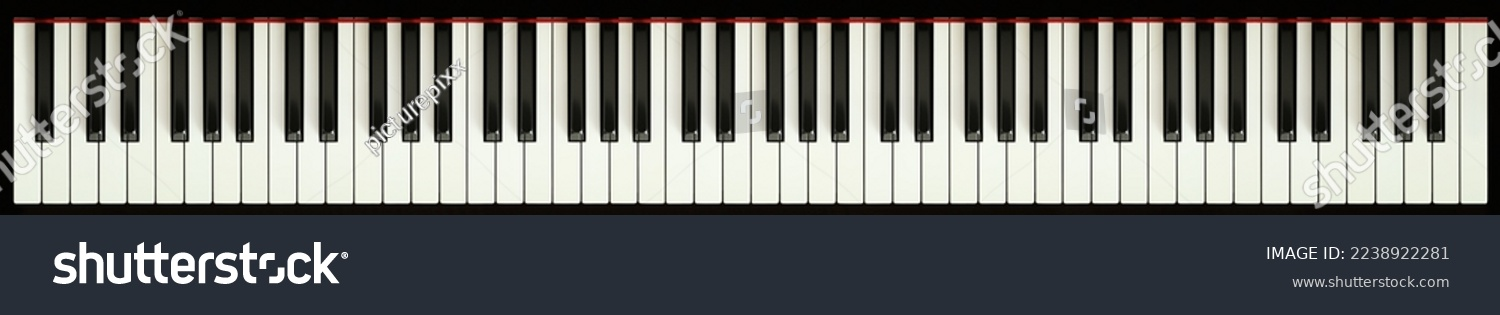Piano: (1, 2, 1500, 315)
